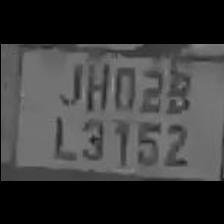0: (109, 60, 138, 110)
1: (107, 114, 131, 166)
2: (160, 116, 188, 168)
3: (76, 113, 106, 162)
5: (131, 114, 161, 166)
H: (80, 56, 108, 110)
J: (56, 56, 82, 107)
L: (46, 106, 76, 158)
